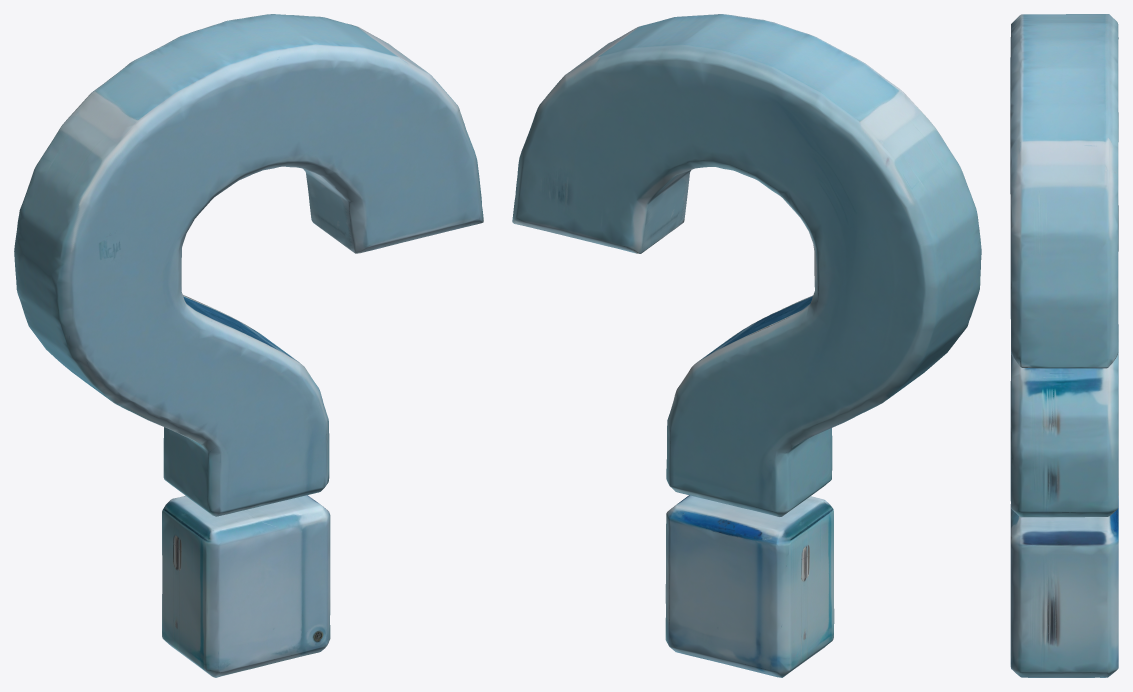
File: Soruisareti.fbx
3 views of the same model, side by side, from view 1: azimuth 30°, elevation 25°; view 2: azimuth 150°, elevation 25°; view 3: azimuth 270°, elevation 25° (orthographic).
Parts seen in each view (by area): view 1: Mesh_0; view 2: Mesh_0; view 3: Mesh_0.
Boxes of the visible parts, x1=… form: Mesh_0: x1=14, y1=14, x2=483, y2=677; Mesh_0: x1=512, y1=14, x2=981, y2=677; Mesh_0: x1=1010, y1=14, x2=1118, y2=677.
Size of the model in its own units: 146 by 201 by 32.29.
1 material, 1 textured.
